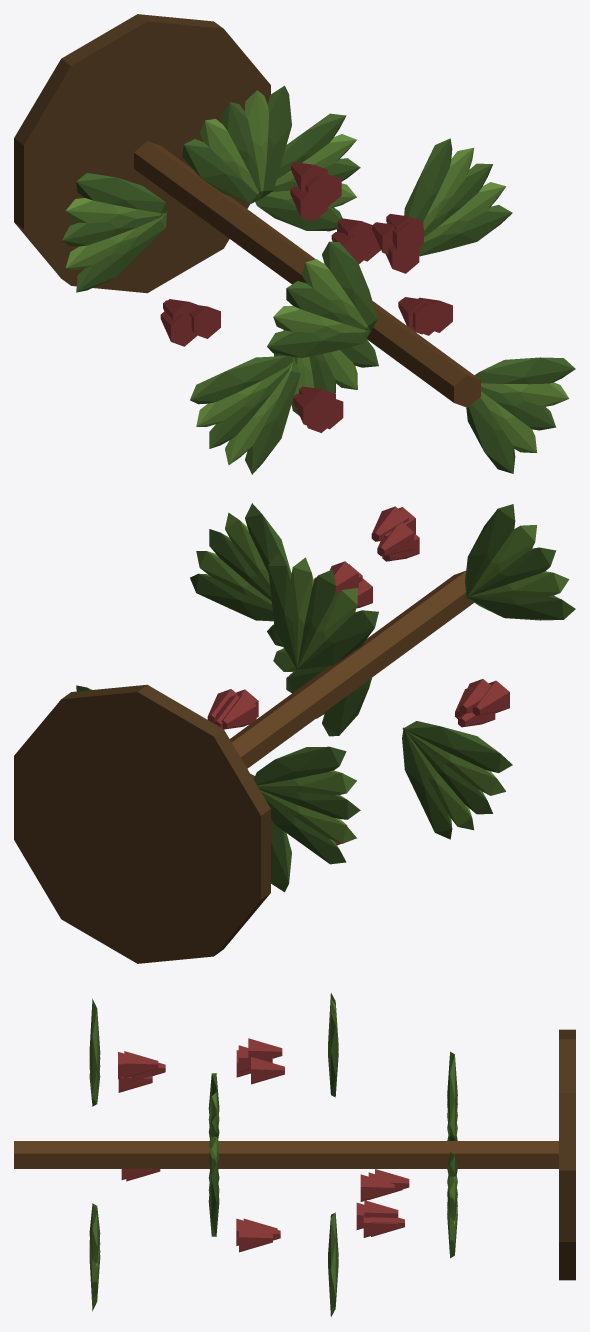
Rendered from 4_mature.obj.
The picture shows the model from 3 angles, top to bottom: view 1: azimuth 30°, elevation 25°; view 2: azimuth 150°, elevation 25°; view 3: azimuth 270°, elevation 25°; orthographic projection. The views are drawn at different scales.
Parts seen in each view (by area): view 1: wildblood_4_mature; view 2: wildblood_4_mature; view 3: wildblood_4_mature.
Boxes of the visible parts, x1,y1,x2,y2 form: wildblood_4_mature: [14, 14, 575, 474]; wildblood_4_mature: [14, 503, 575, 963]; wildblood_4_mature: [14, 993, 575, 1316].
Size of the model in its own units: 0.3733 by 0.378 by 0.66.
